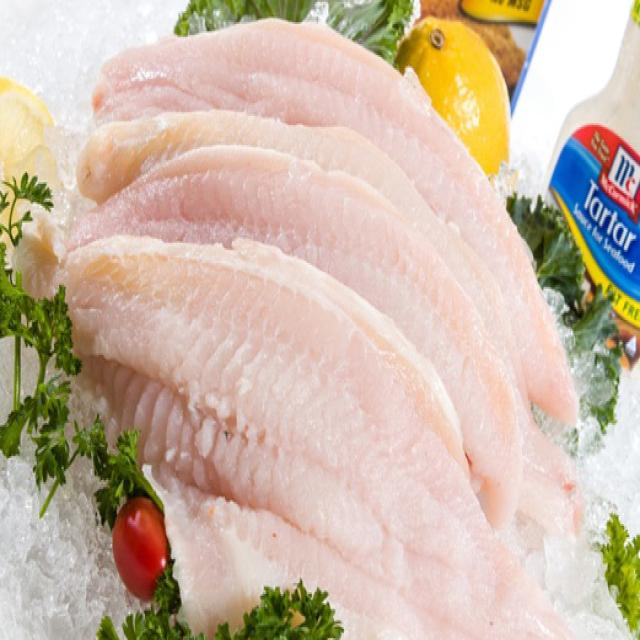Catfish: (80, 30, 572, 495), (63, 230, 560, 640)
Coriander: (502, 184, 628, 441), (0, 164, 84, 500), (173, 0, 419, 50), (220, 579, 339, 640), (598, 489, 640, 631), (123, 553, 180, 640)
lemon: (399, 7, 510, 189), (0, 64, 61, 246)
